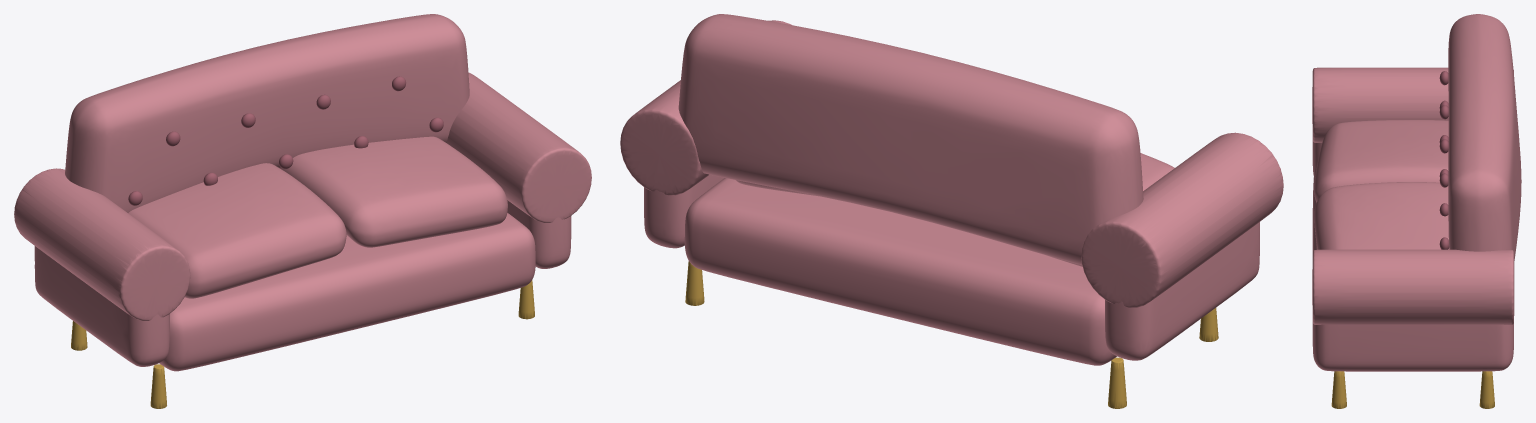
File: plush_sofa.glb
The picture shows the model from 3 angles, left to right: view 1: azimuth 30°, elevation 25°; view 2: azimuth 150°, elevation 25°; view 3: azimuth 270°, elevation 25°; orthographic projection. The views are drawn at different scales.
Visible parts, largest first — view 1: base, tuft00, leg; view 2: base, leg; view 3: base, leg, tuft00.
Boxes of the visible parts, x1,y1,x2,y2 form: base: [14, 14, 591, 371]; tuft00: [128, 76, 443, 205]; leg: [71, 280, 534, 408]; base: [620, 14, 1283, 365]; leg: [685, 261, 1218, 408]; base: [1312, 14, 1521, 371]; leg: [1331, 371, 1494, 408]; tuft00: [1439, 71, 1449, 249].
Bounding box in the file's own units: 2.26 × 1.17 × 0.9321.
